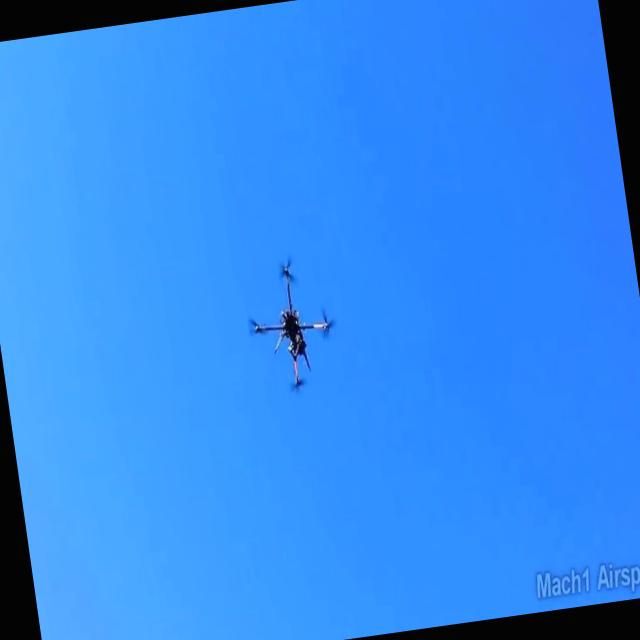drone: (242, 251, 346, 398)
